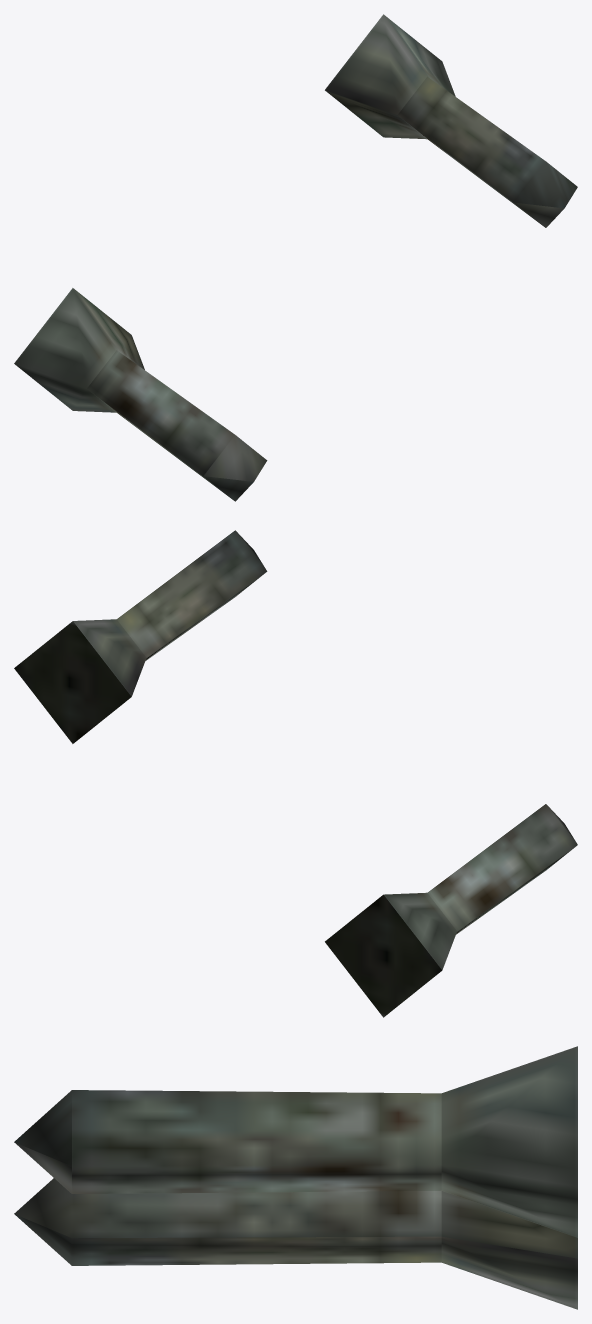
Rendered from xwing_thruster_neg_s02_l2.fbx.
The picture shows the model from 3 angles, top to bottom: view 1: azimuth 30°, elevation 25°; view 2: azimuth 150°, elevation 25°; view 3: azimuth 270°, elevation 25°; orthographic projection. The views are drawn at different scales.
Visible parts, largest first — view 1: mesh_node; view 2: mesh_node; view 3: mesh_node.
Part boxes in pixels (box(x1,y1,x2,y2)): mesh_node: box(14, 14, 577, 501); mesh_node: box(14, 530, 577, 1017); mesh_node: box(14, 1046, 577, 1309).
Size of the model in its own units: 4.81 by 3.45 by 3.53.
1 material, 1 textured.
